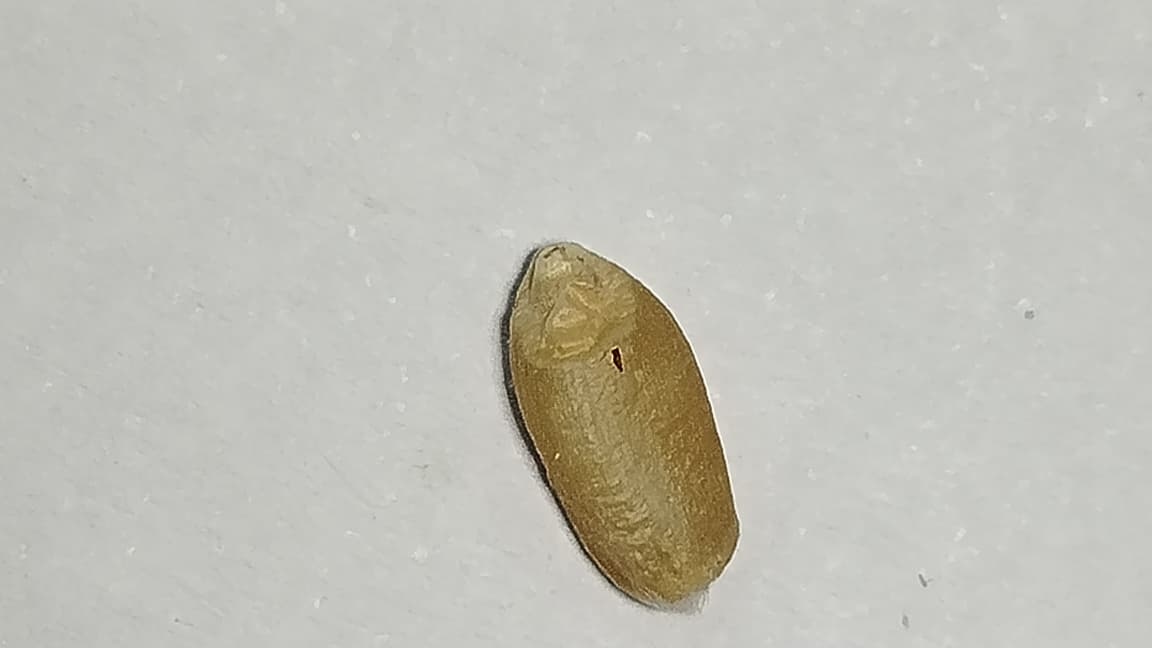healthy: (505, 242, 739, 607)
